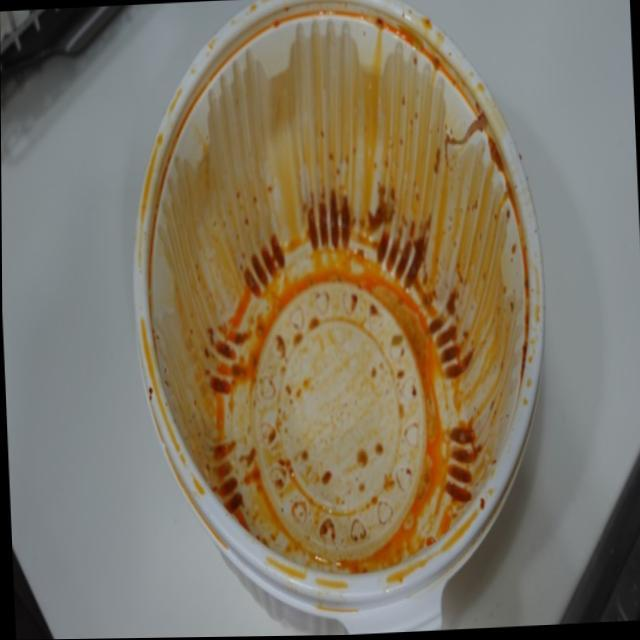container: (89, 0, 595, 633)
